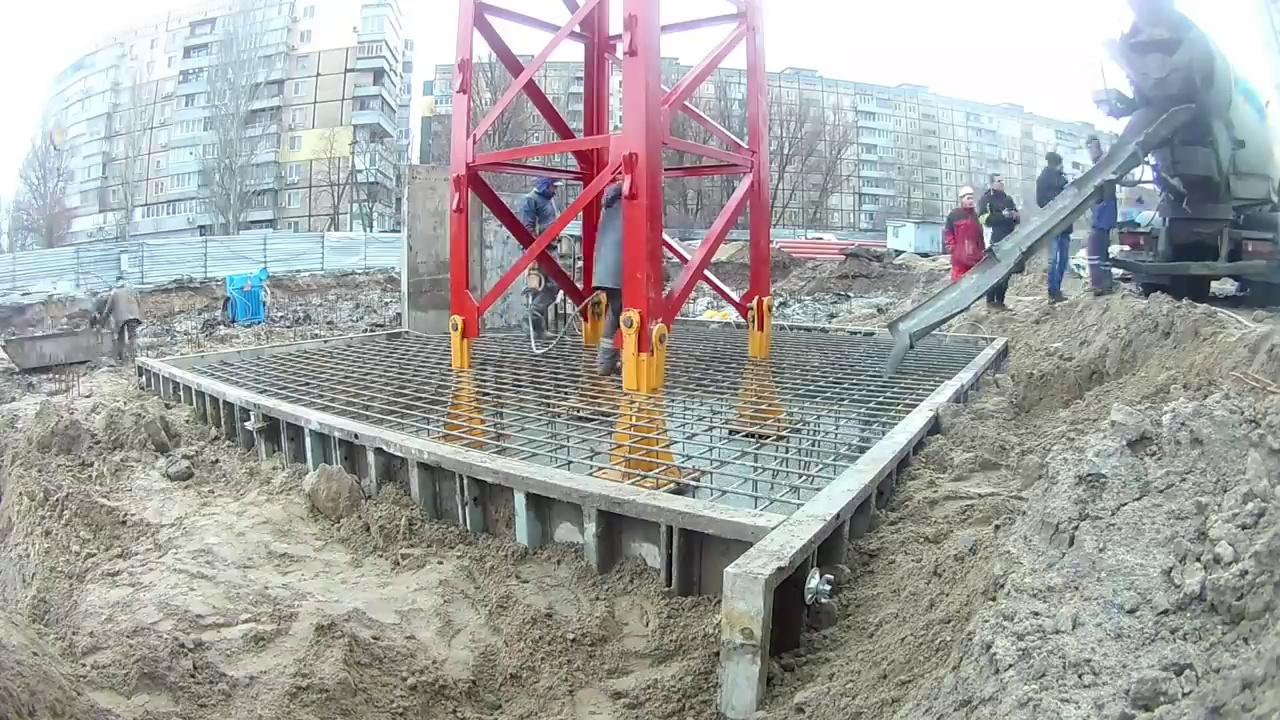helmet: (958, 187, 974, 198)
helmet-off: (530, 170, 564, 199), (1082, 138, 1105, 168), (986, 172, 1007, 200), (1043, 152, 1064, 179)
helmet-on: (958, 187, 975, 216)
person: (515, 171, 569, 339), (590, 176, 631, 377), (1081, 139, 1124, 300), (1037, 152, 1079, 305), (978, 173, 1020, 313), (941, 186, 986, 291)
